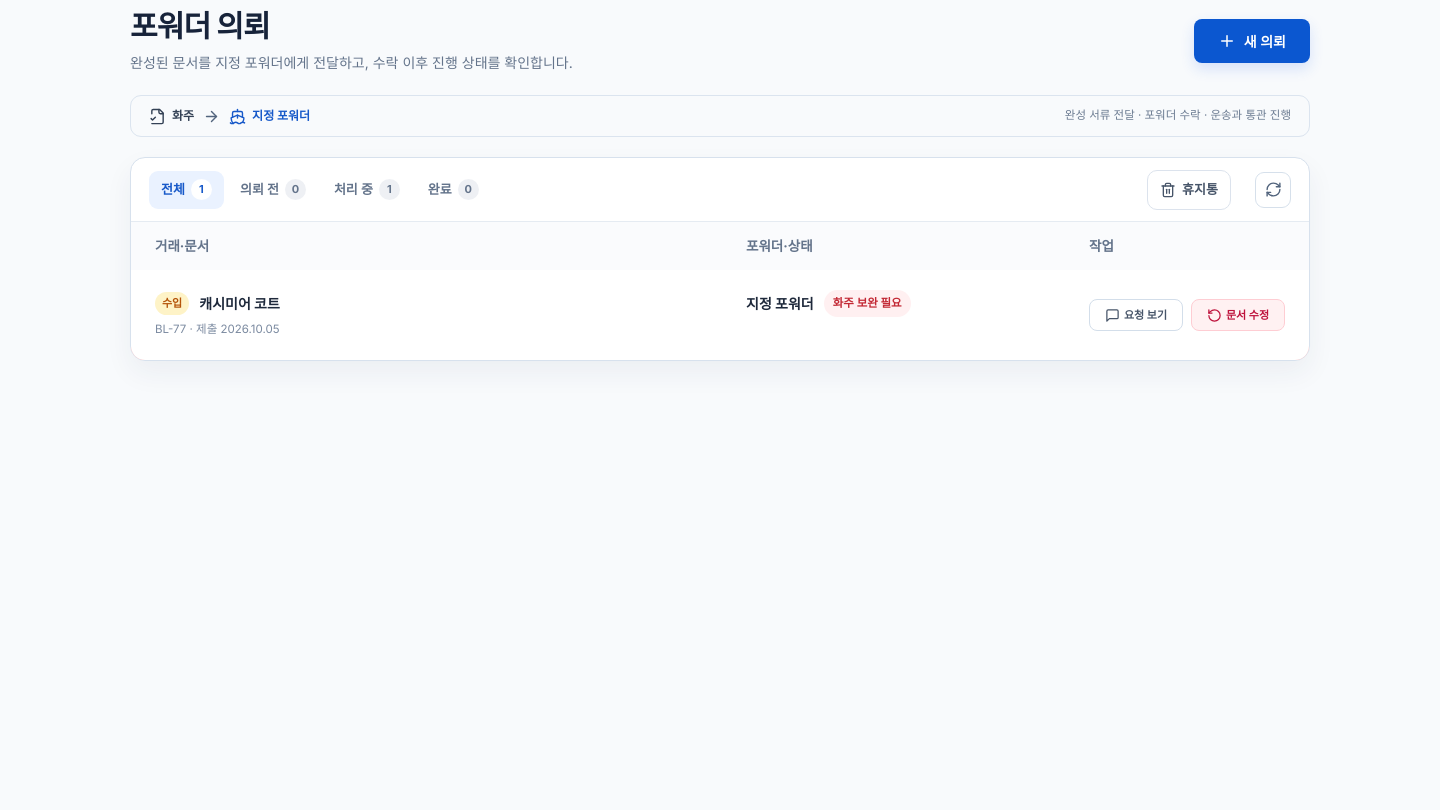
Test case: 보완 요청 알림으로 들어온 화주 › 대화 의뢰가 없는 거래도 보완 요청이 있으면 [요청 보기]로 카드를 연다
What coordinates should you click on to do the following:
click the button "요청 보기"
I would click on:
 (1136, 315)
Its box is [1089, 299, 1183, 331].
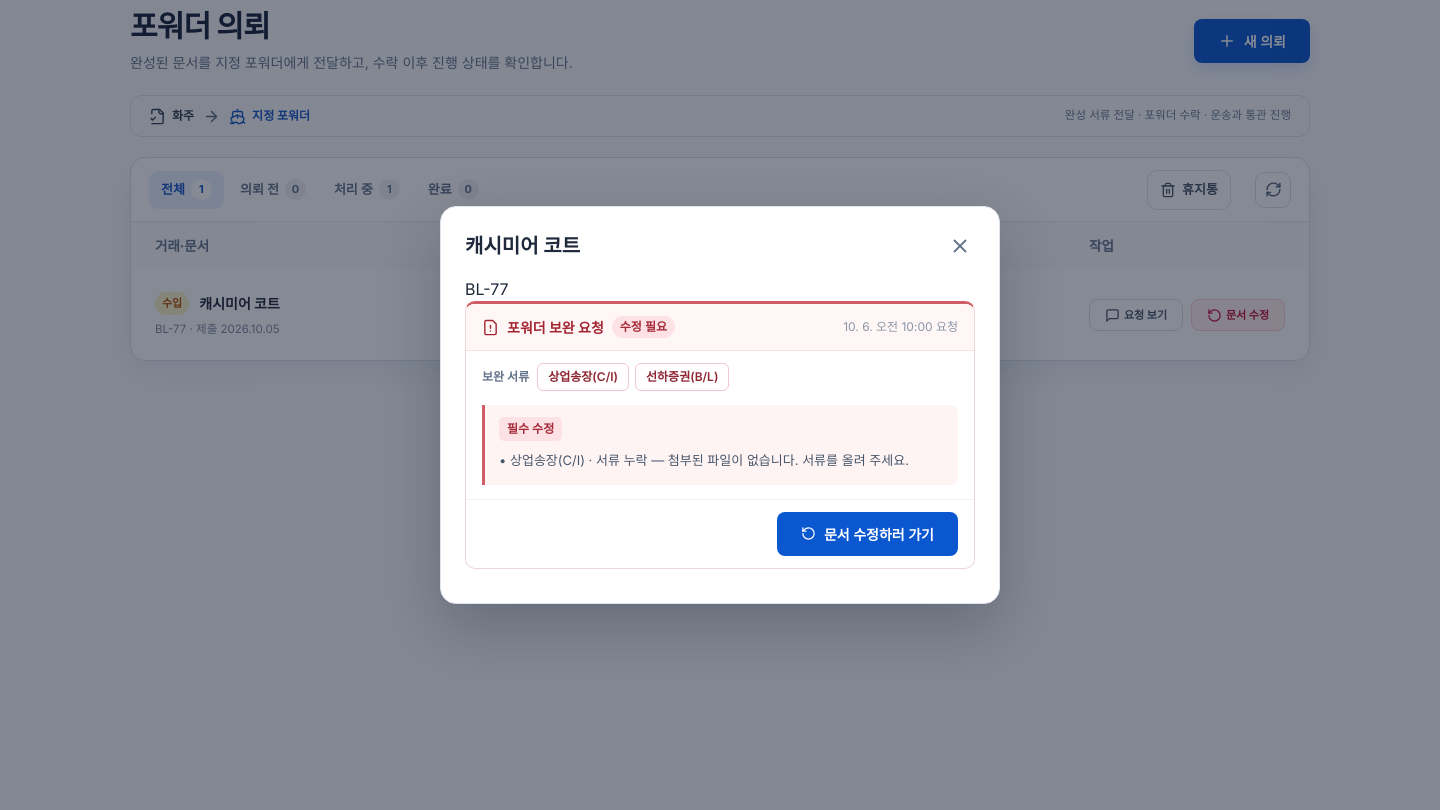
Check: the element with class "rr-card" is shown, box [465, 301, 975, 569]
